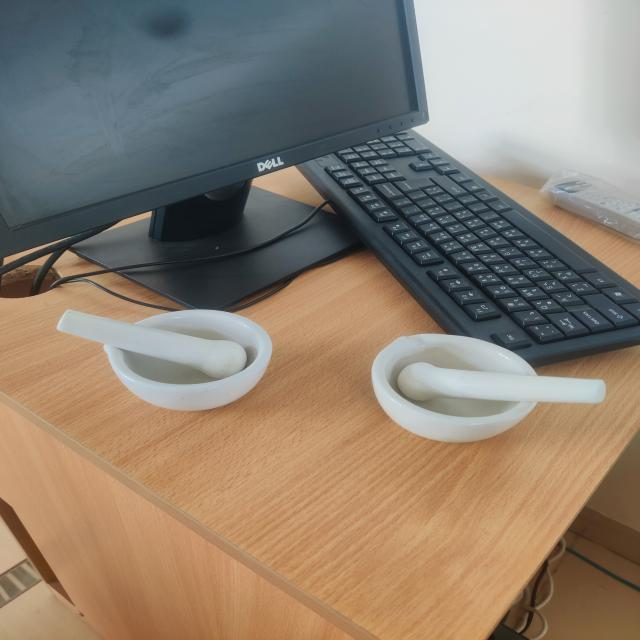Porcelain_Mortar Pestle: (348, 296, 627, 481), (34, 277, 300, 437)
